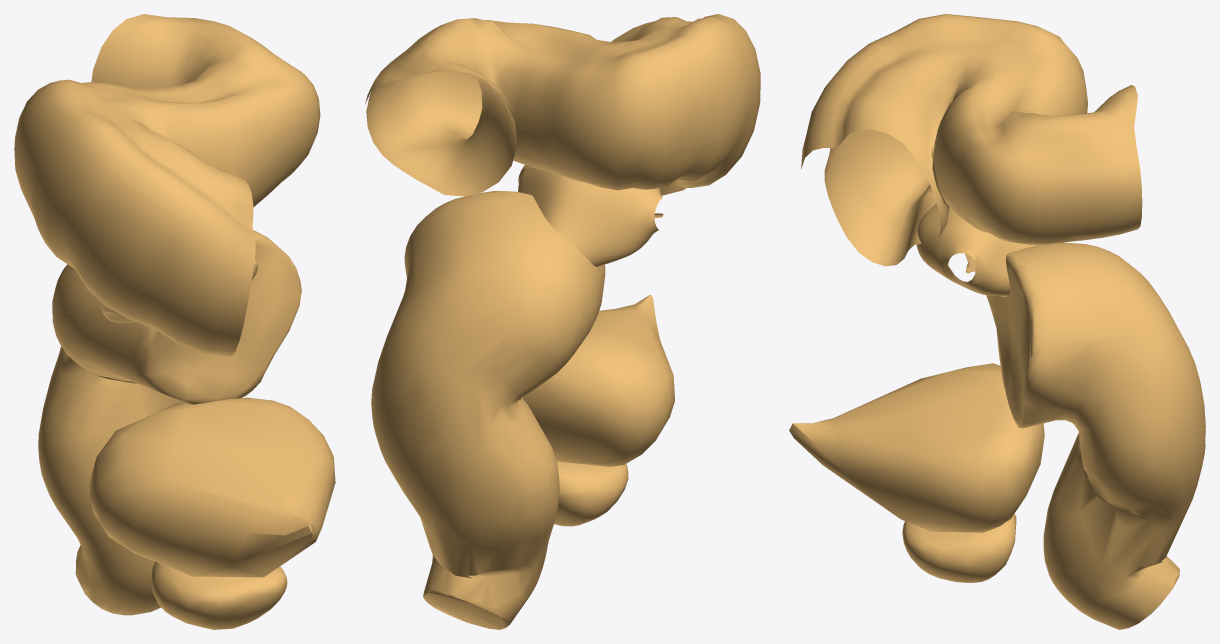
Rendered from suprapubica.glb.
The picture shows the model from 3 angles, left to right: view 1: azimuth 30°, elevation 25°; view 2: azimuth 150°, elevation 25°; view 3: azimuth 270°, elevation 25°; orthographic projection. The views are drawn at different scales.
Visible parts, largest first — view 1: colon-sigmoide, bexiga, reto, prostata; view 2: reto, colon-sigmoide, bexiga, utero, prostata; view 3: colon-sigmoide, reto, bexiga, utero, prostata.
Part boxes in pixels (x1,y1,x2,y2): colon-sigmoide: (14, 14, 320, 356); bexiga: (89, 397, 335, 577); reto: (38, 230, 301, 615); prostata: (151, 561, 287, 629); reto: (371, 191, 605, 629); colon-sigmoide: (365, 14, 760, 196); bexiga: (522, 294, 674, 466); utero: (518, 165, 663, 266); prostata: (554, 461, 628, 526); colon-sigmoide: (801, 14, 1142, 266); reto: (986, 242, 1205, 629); bexiga: (789, 363, 1044, 532); utero: (916, 203, 1036, 297); prostata: (902, 514, 1016, 582).
Bounding box in the file's own units: 0.0908 × 0.1697 × 0.1169.
